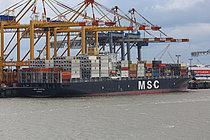Ship: (6, 51, 196, 104)
